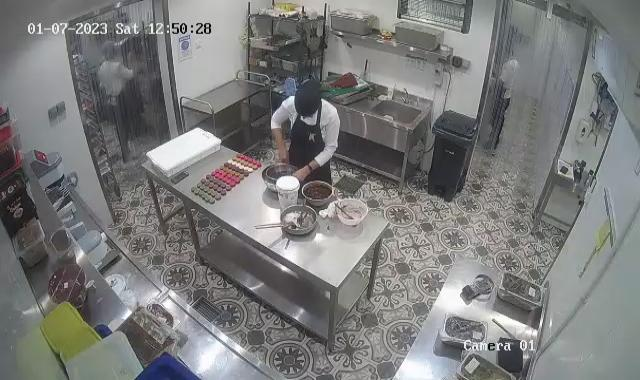no_hairnet: (294, 79, 323, 119)
